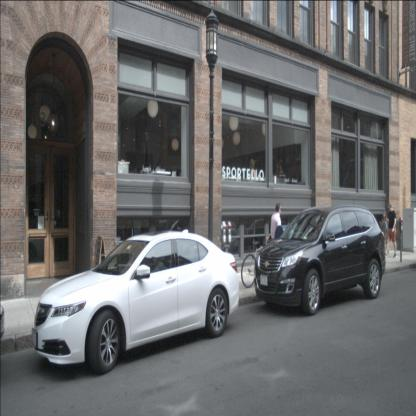human-pedestrian-adult: (270, 202, 283, 277), (384, 202, 398, 259), (380, 210, 389, 257)
vehicle-bicycle: (241, 234, 277, 288)
vehicle-car: (31, 230, 240, 375), (254, 204, 386, 316), (244, 219, 282, 250)
